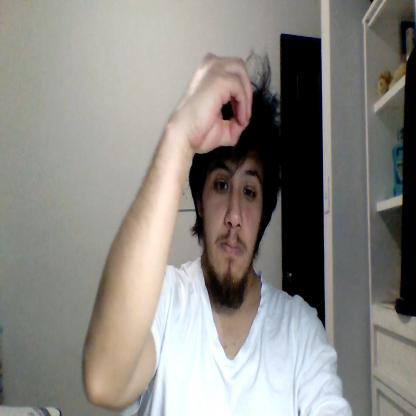O: (184, 53, 252, 157)
